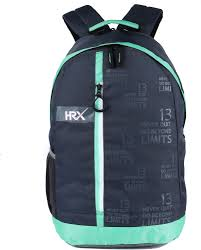backpack: (45, 3, 187, 248)
